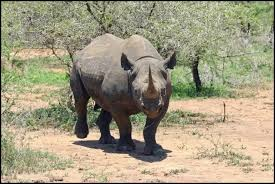Rhinoceros: (57, 28, 187, 153)
